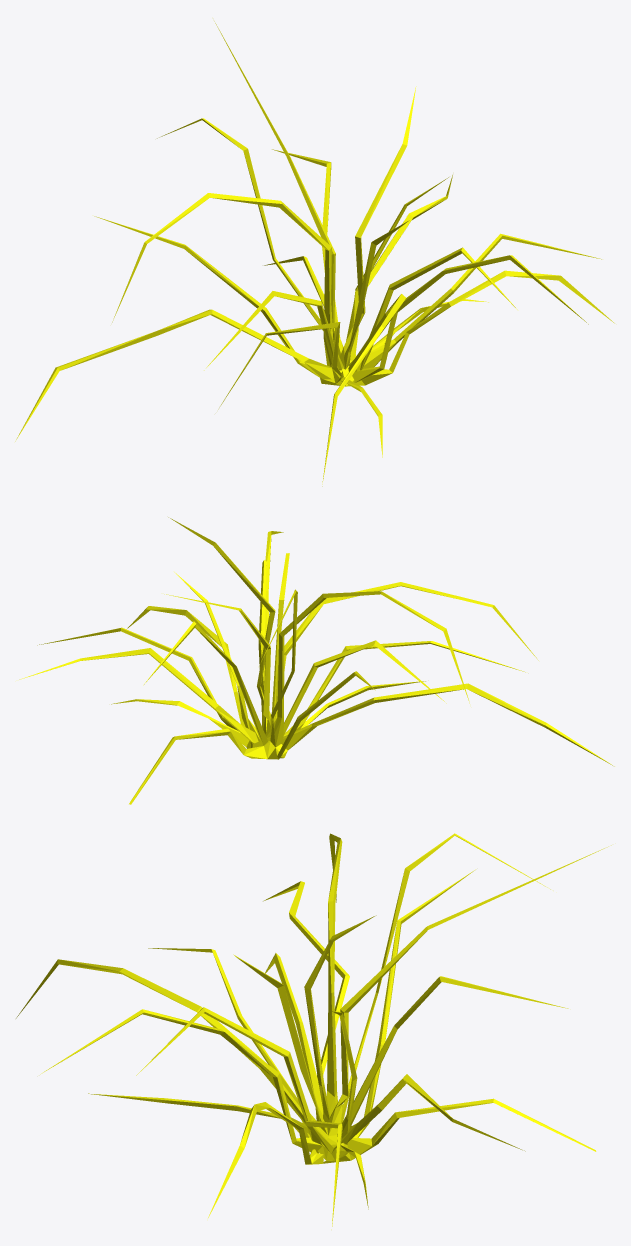
File: grass_h.glb
The picture shows the model from 3 angles, top to bottom: view 1: azimuth 30°, elevation 25°; view 2: azimuth 150°, elevation 25°; view 3: azimuth 270°, elevation 25°; orthographic projection. The views are drawn at different scales.
Parts seen in each view (by area): view 1: SM_Grass_03; view 2: SM_Grass_03; view 3: SM_Grass_03.
Boxes of the visible parts, x1,y1,x2,y2 form: SM_Grass_03: (15, 21, 614, 486); SM_Grass_03: (19, 517, 614, 804); SM_Grass_03: (16, 833, 611, 1229).
Bounding box in the file's own units: 0.7112 × 0.3032 × 0.5337.
